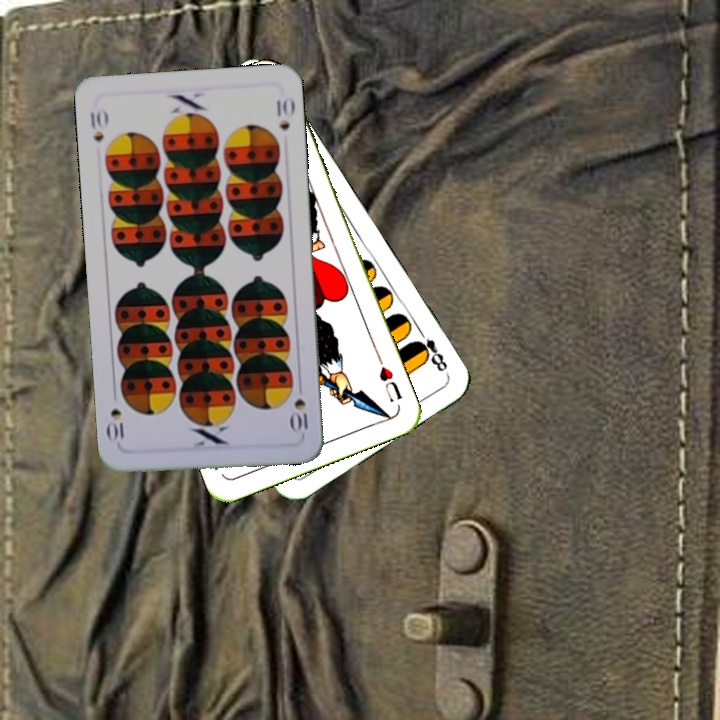E8: (410, 324, 450, 375)
HU: (374, 352, 405, 405)
S10: (85, 105, 110, 144), (288, 395, 310, 436)
